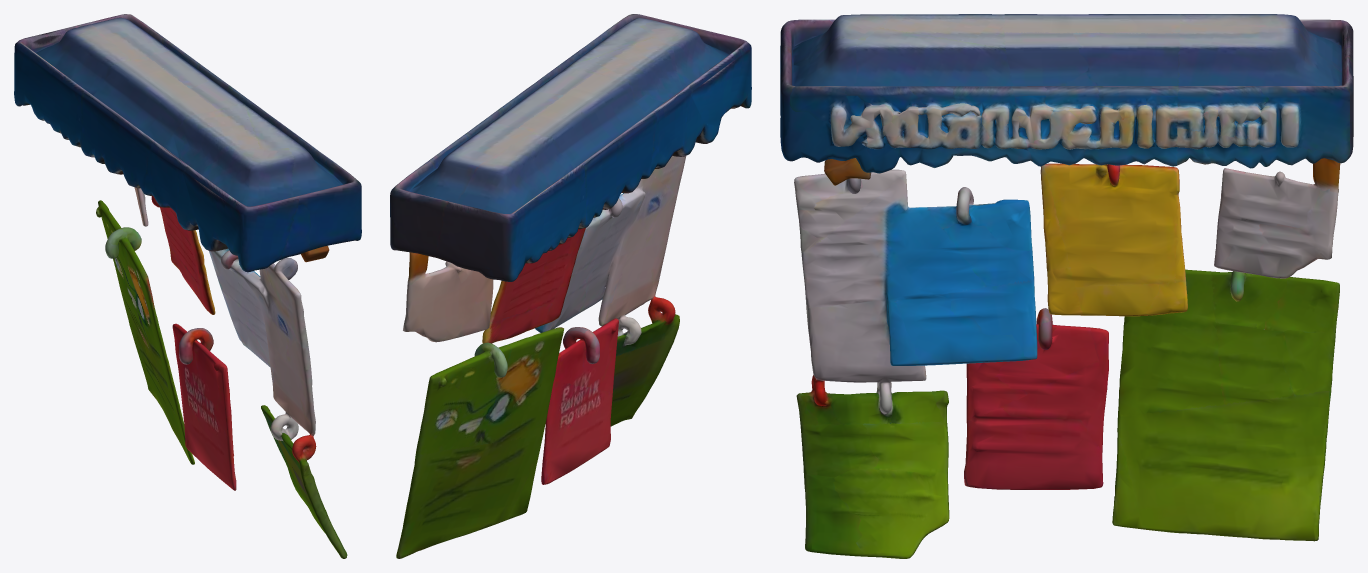
File: notice_board.glb
3 views of the same model, side by side, from view 1: azimuth 30°, elevation 25°; view 2: azimuth 150°, elevation 25°; view 3: azimuth 270°, elevation 25° (orthographic). The views are drawn at different scales.
Visible parts, largest first — view 1: tripo_node_4f29f569-3fa9-4544-8a0b-61a05c7d6d5a; view 2: tripo_node_4f29f569-3fa9-4544-8a0b-61a05c7d6d5a; view 3: tripo_node_4f29f569-3fa9-4544-8a0b-61a05c7d6d5a.
Boxes of the visible parts, x1=… form: tripo_node_4f29f569-3fa9-4544-8a0b-61a05c7d6d5a: x1=14, y1=14, x2=361, y2=558; tripo_node_4f29f569-3fa9-4544-8a0b-61a05c7d6d5a: x1=390, y1=14, x2=751, y2=558; tripo_node_4f29f569-3fa9-4544-8a0b-61a05c7d6d5a: x1=780, y1=14, x2=1353, y2=558.
Bounding box in the file's own units: 0.3004 × 0.8964 × 0.9492.
1 material, 1 textured.
